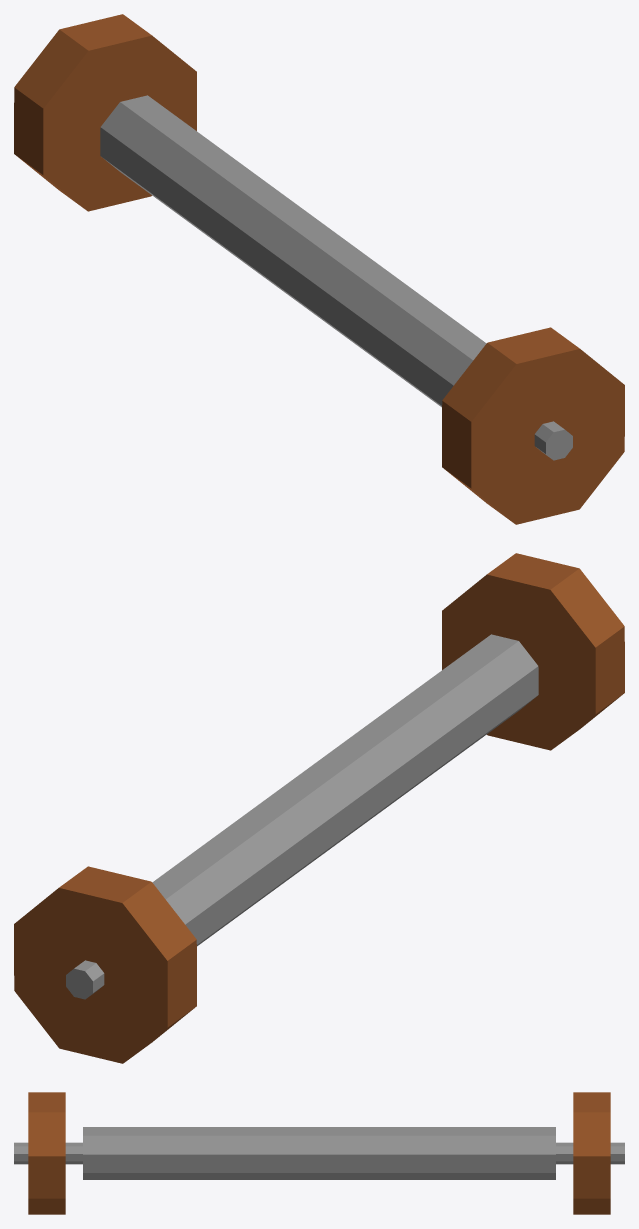
The model's file is WheelsSmall.fbx.
The picture shows the model from 3 angles, top to bottom: view 1: azimuth 30°, elevation 25°; view 2: azimuth 150°, elevation 25°; view 3: azimuth 270°, elevation 25°; orthographic projection. The views are drawn at different scales.
Visible parts, largest first — view 1: Cylinder.017; view 2: Cylinder.017; view 3: Cylinder.017.
Boxes of the visible parts, x1,y1,x2,y2 form: Cylinder.017: (14,14,624,524); Cylinder.017: (14,553,624,1063); Cylinder.017: (14,1092,624,1214).
Size of the model in its own units: 151 by 151 by 814.
